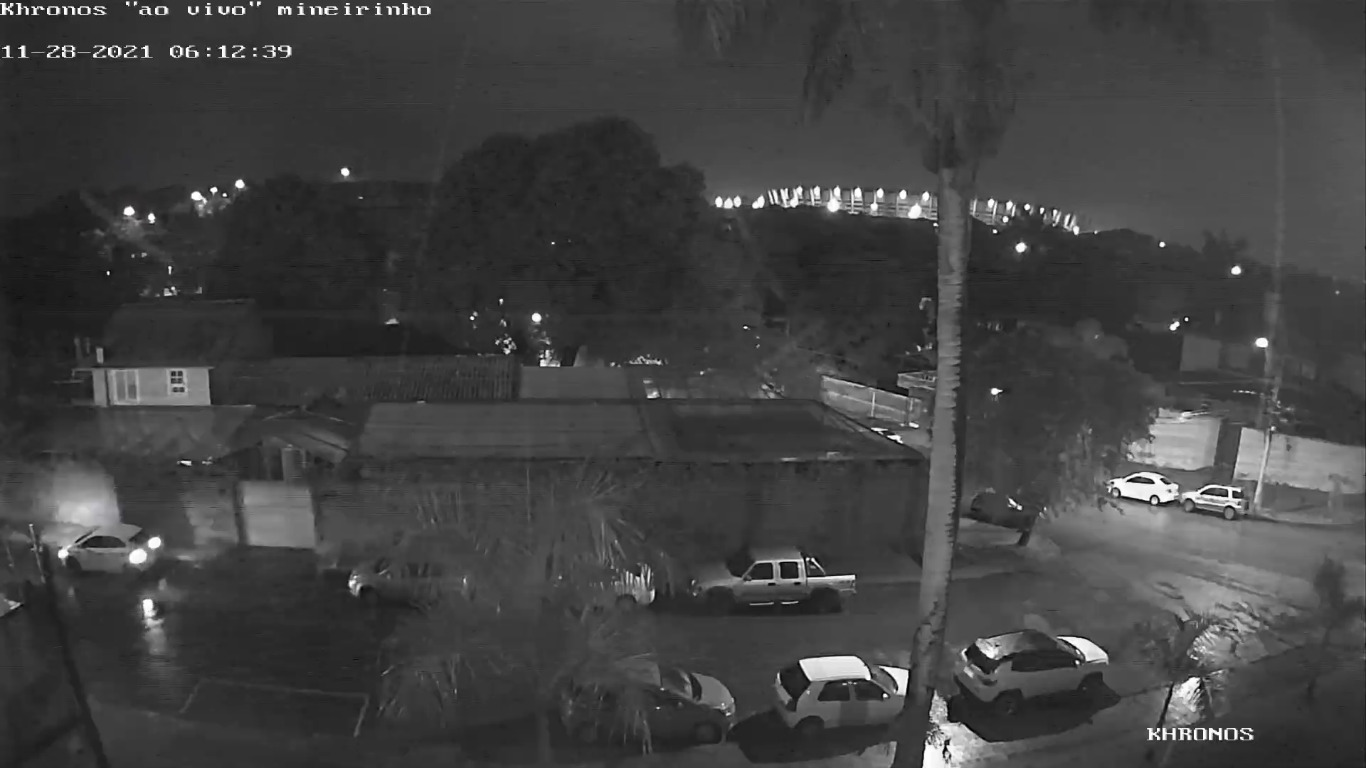car: (556, 658, 738, 746), (952, 630, 1111, 715), (771, 655, 935, 737), (687, 543, 859, 621), (57, 522, 167, 583), (969, 484, 1047, 529), (1179, 481, 1253, 523), (1106, 469, 1180, 507)
